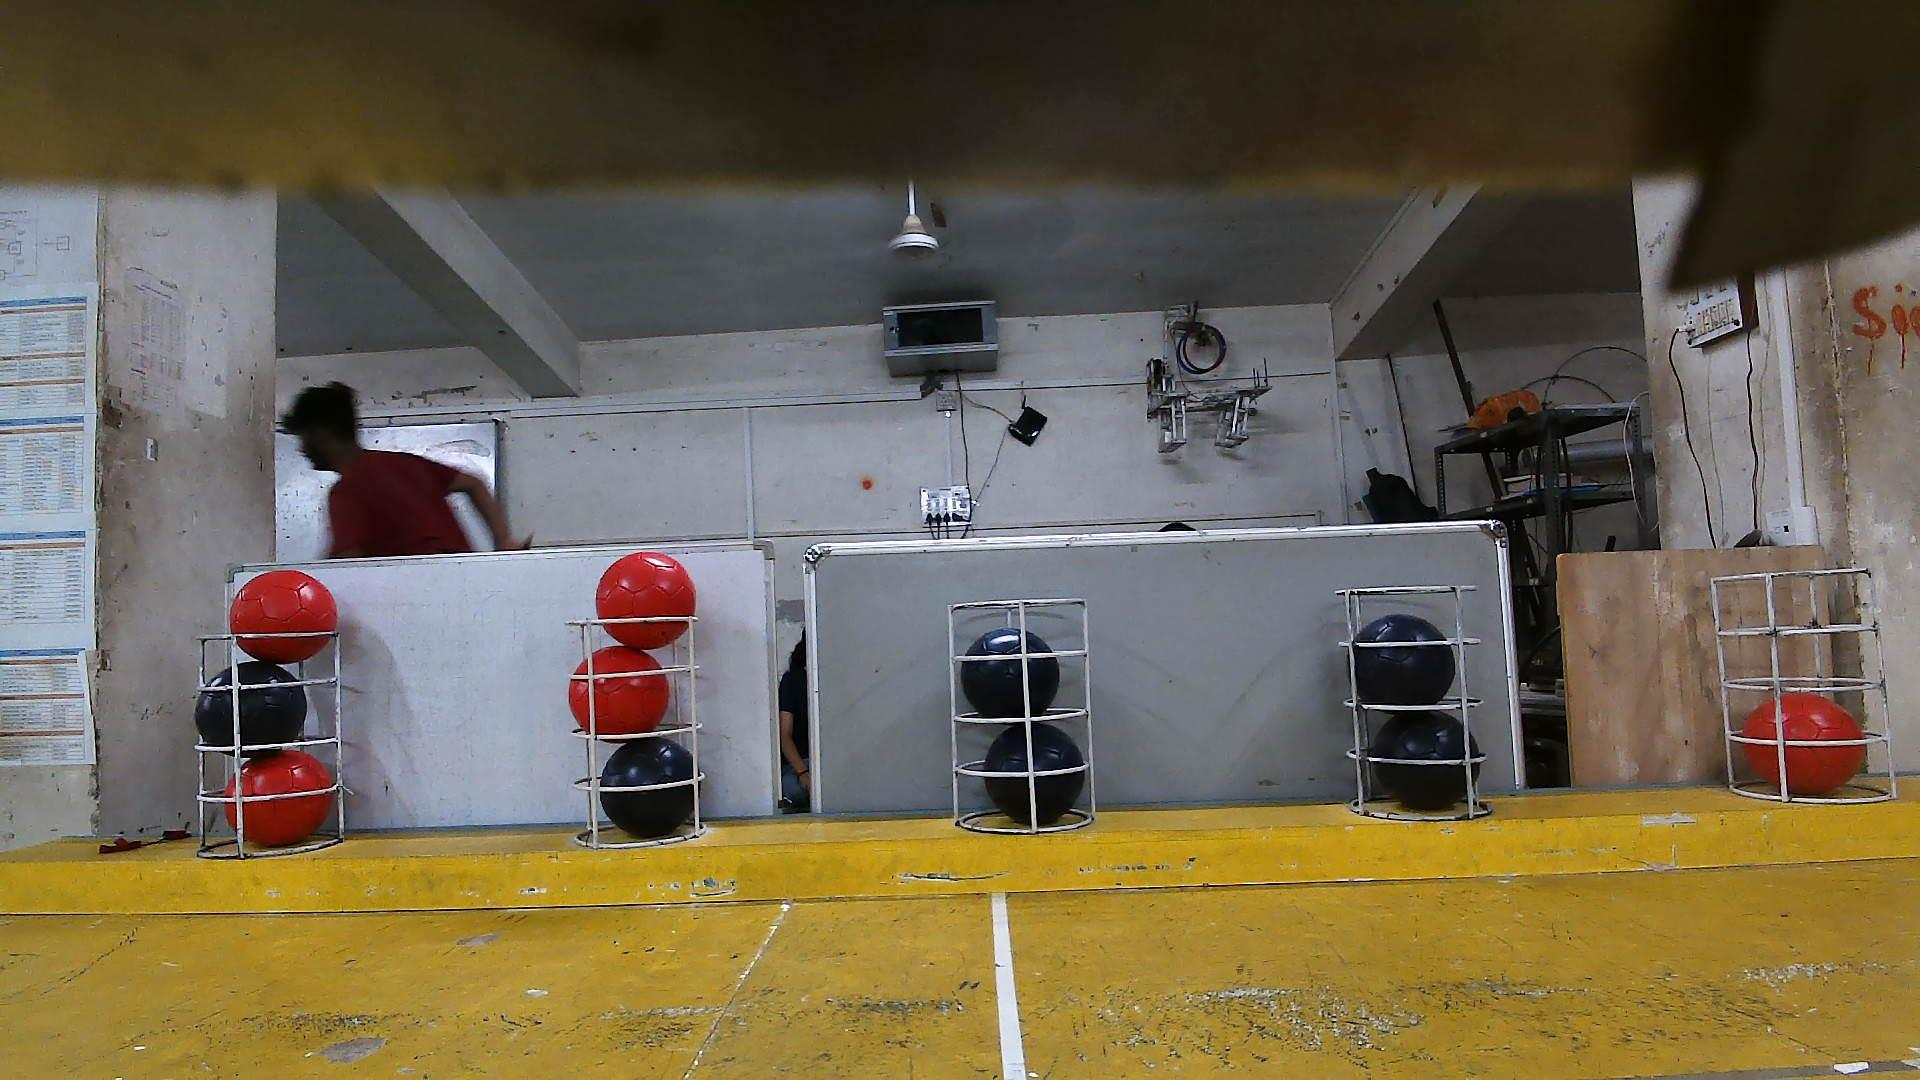dhoka: (1373, 708, 1485, 814), (195, 661, 307, 757), (986, 720, 1088, 825), (600, 738, 694, 840), (1354, 615, 1455, 705), (960, 626, 1062, 716)
laale: (1743, 690, 1863, 795), (225, 750, 334, 848), (228, 570, 338, 663), (596, 551, 698, 649), (570, 645, 667, 735)
